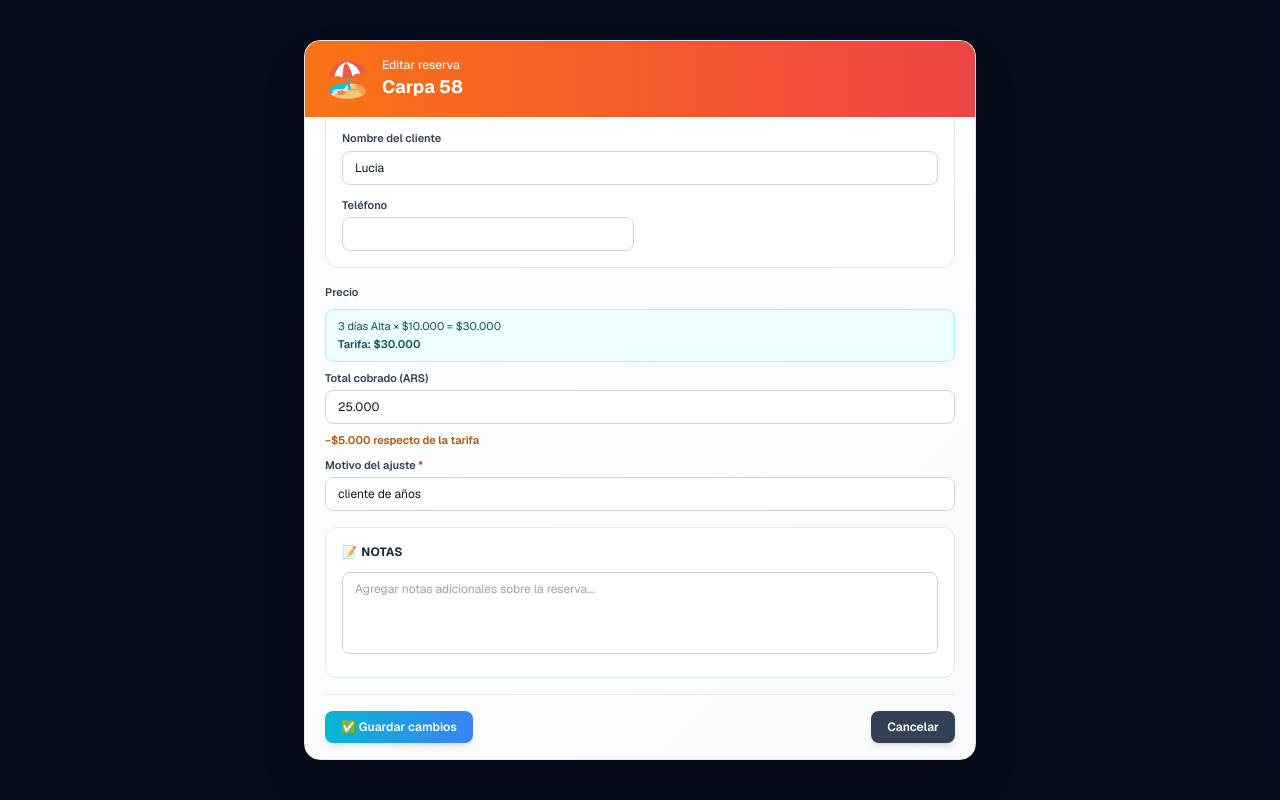
Test: precio al editar › borrar el motivo de un ajuste deshabilita guardar
(page scrolled)
Clear the field labelled "Motivo del ajuste *" at {"x": 640, "y": 494}, box [325,477,955,511]
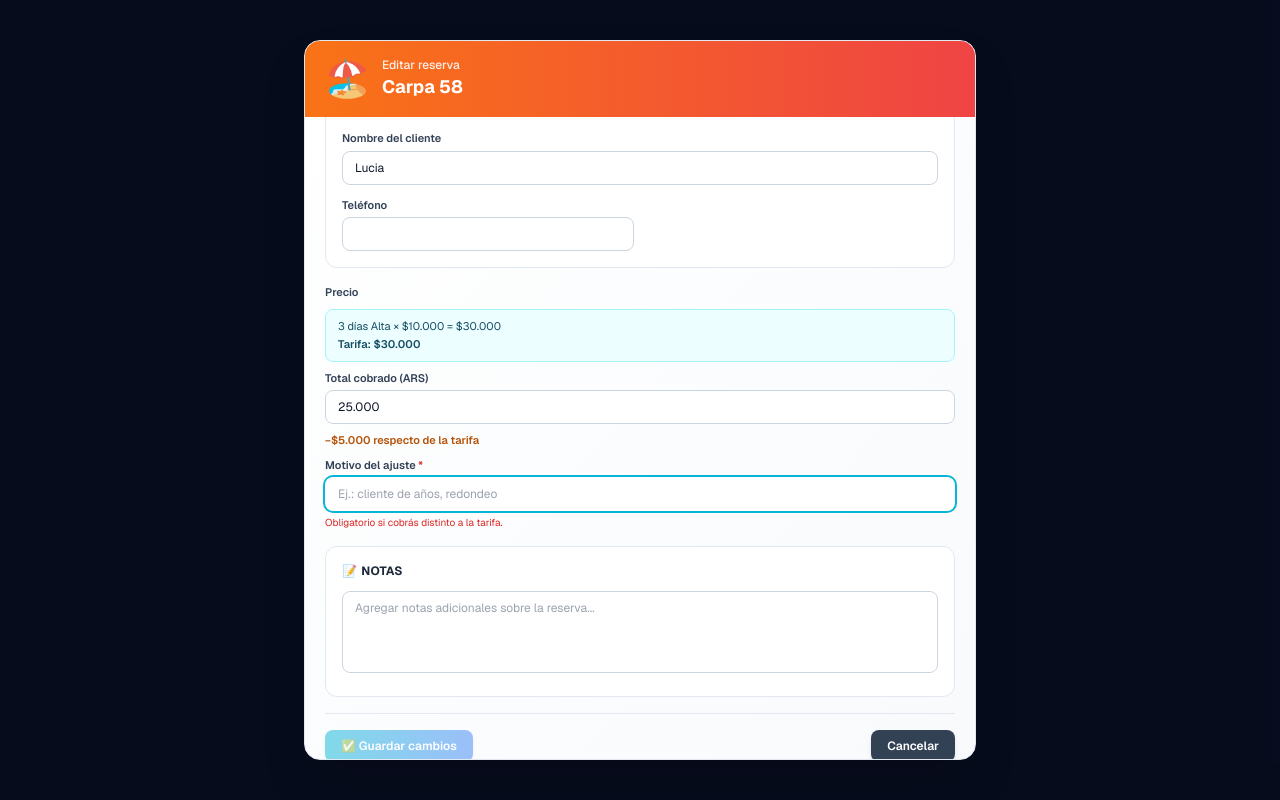
Expected: the button "✅ Guardar cambios" is disabled, [325,730,473,759]
